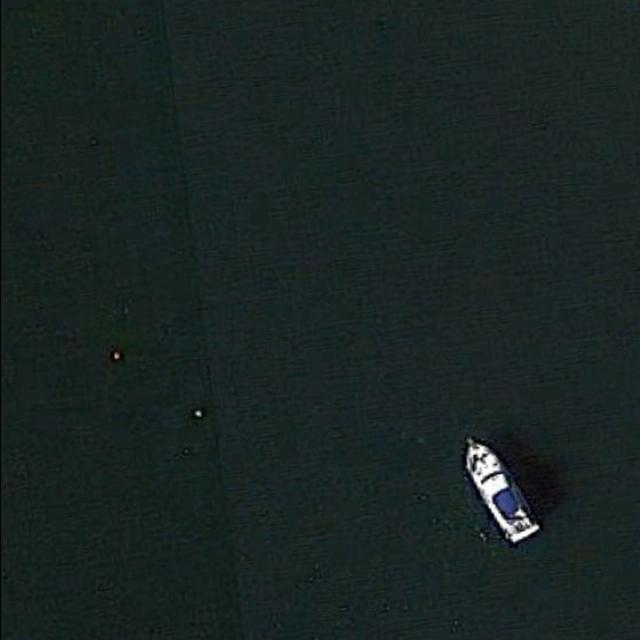ship: (462, 440, 542, 546)
